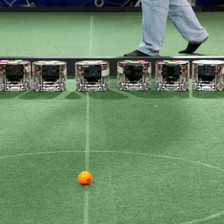ball: (75, 167, 92, 183)
robot: (71, 58, 110, 93), (114, 59, 153, 92), (31, 59, 66, 93), (154, 57, 189, 90), (190, 59, 223, 92), (1, 56, 29, 91)
